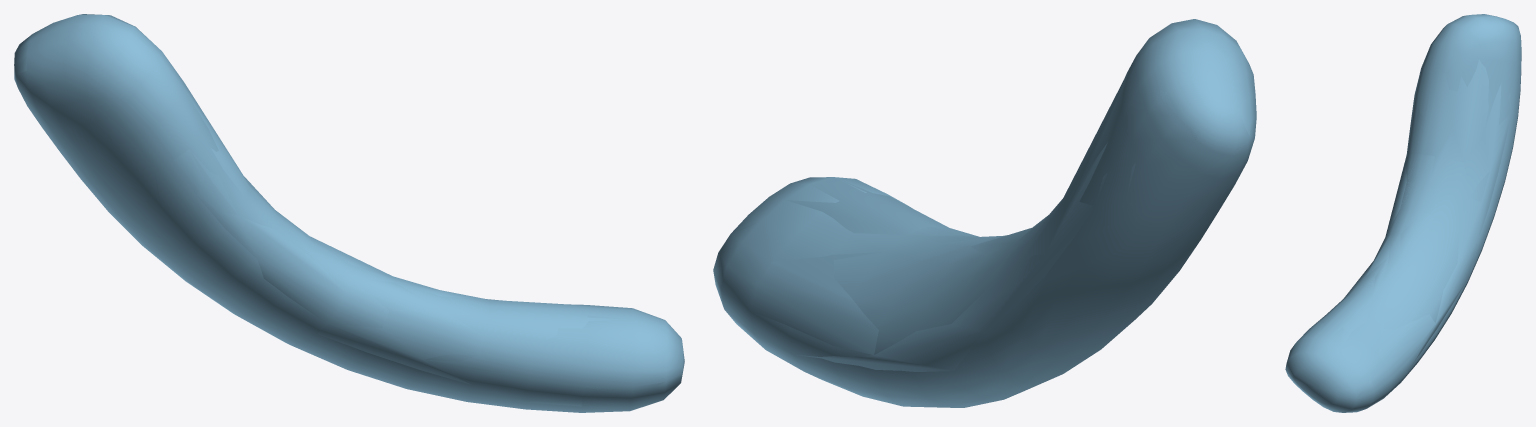
The picture shows the model from 3 angles, left to right: view 1: azimuth 30°, elevation 25°; view 2: azimuth 150°, elevation 25°; view 3: azimuth 270°, elevation 25°; orthographic projection. The views are drawn at different scales.
Parts seen in each view (by area): view 1: CC R3, CC R3 low; view 2: CC R3, CC R3 low; view 3: CC R3, CC R3 low.
Boxes of the visible parts, x1,y1,x2,y2 form: CC R3: [14, 14, 684, 412]; CC R3 low: [16, 16, 665, 406]; CC R3: [713, 19, 1256, 407]; CC R3 low: [713, 25, 1253, 407]; CC R3: [1285, 14, 1521, 412]; CC R3 low: [1303, 15, 1519, 399].
Bounding box in the file's own units: 8.16 × 6.05 × 4.9.
